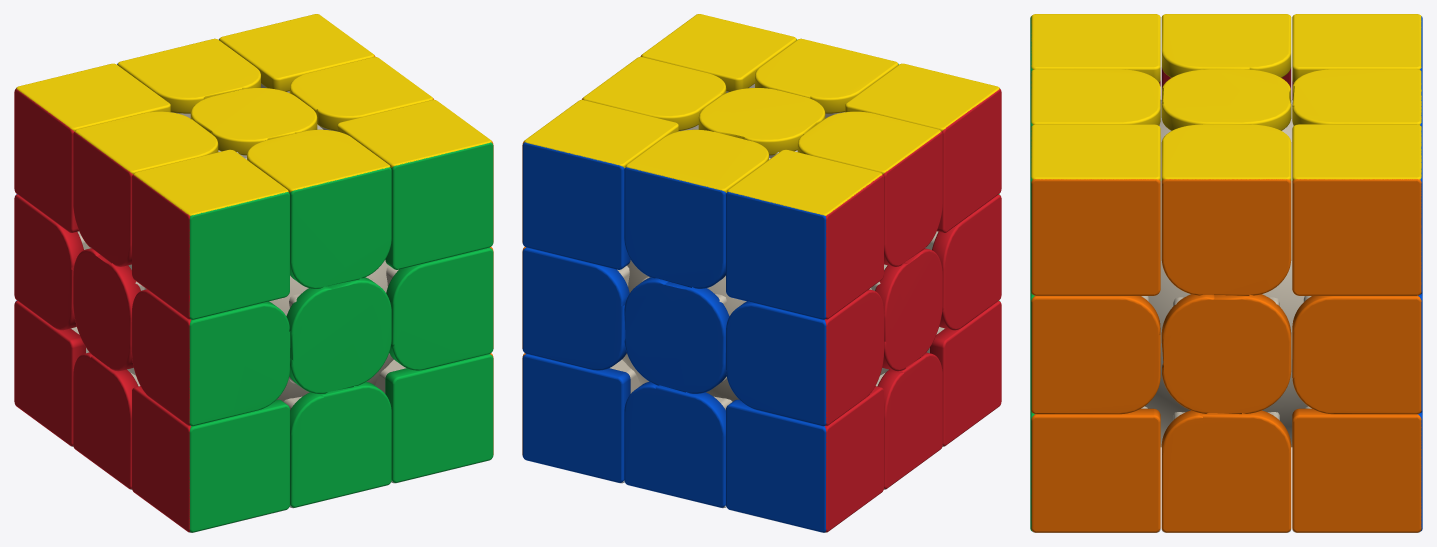
3 renders of one model, left to right at view 1: azimuth 30°, elevation 25°; view 2: azimuth 150°, elevation 25°; view 3: azimuth 270°, elevation 25°, orthographic. The views are drawn at different scales.
Visible parts, largest first — view 1: piece_-1,1,1, piece_-1,-1,1, piece_1,1,1, piece_-1,0,1, piece_0,1,1, piece_-1,1,-1, piece_1,-1,1, piece_-1,1,0, piece_1,0,1, piece_0,-1,1, piece_0,0,1, piece_-1,-1,-1 (+8 smaller); view 2: piece_-1,1,-1, piece_-1,-1,-1, piece_1,1,-1, piece_-1,0,-1, piece_0,1,-1, piece_-1,1,1, piece_1,-1,-1, piece_-1,1,0, piece_1,0,-1, piece_0,-1,-1, piece_0,0,-1, piece_-1,-1,1 (+8 smaller); view 3: piece_1,1,-1, piece_1,1,1, piece_1,1,0, piece_1,-1,1, piece_1,-1,-1, piece_1,-1,0, piece_1,0,1, piece_1,0,-1, piece_1,0,0, piece_-1,1,0, piece_-1,1,-1, piece_-1,1,1 (+4 smaller).
Boxes of the visible parts, bbox=[...] form: piece_-1,1,1: bbox=[132, 149, 289, 319]; piece_-1,-1,1: bbox=[132, 386, 289, 532]; piece_1,1,1: bbox=[337, 100, 493, 269]; piece_-1,0,1: bbox=[131, 289, 290, 426]; piece_0,1,1: bbox=[247, 129, 391, 288]; piece_-1,1,-1: bbox=[14, 63, 170, 232]; piece_1,-1,1: bbox=[375, 353, 493, 483]; piece_-1,1,0: bbox=[73, 111, 218, 266]; piece_1,0,1: bbox=[386, 247, 493, 370]; piece_0,-1,1: bbox=[283, 381, 391, 508]; piece_0,0,1: bbox=[286, 277, 391, 393]; piece_-1,-1,-1: bbox=[14, 300, 89, 446]; piece_-1,1,-1: bbox=[726, 149, 883, 319]; piece_-1,-1,-1: bbox=[726, 386, 883, 532]; piece_1,1,-1: bbox=[522, 100, 678, 269]; piece_-1,0,-1: bbox=[725, 289, 884, 426]; piece_0,1,-1: bbox=[624, 129, 768, 288]; piece_-1,1,1: bbox=[845, 63, 1001, 232]; piece_1,-1,-1: bbox=[522, 353, 640, 483]; piece_-1,1,0: bbox=[797, 111, 942, 266]; piece_1,0,-1: bbox=[522, 247, 629, 370]; piece_0,-1,-1: bbox=[624, 381, 732, 508]; piece_0,0,-1: bbox=[624, 277, 729, 393]; piece_-1,-1,1: bbox=[926, 300, 1001, 446]; piece_1,1,-1: bbox=[1292, 124, 1422, 295]; piece_1,1,1: bbox=[1030, 124, 1160, 295]; piece_1,1,0: bbox=[1161, 124, 1291, 295]; piece_1,-1,1: bbox=[1030, 406, 1160, 532]; piece_1,-1,-1: bbox=[1292, 406, 1422, 532]; piece_1,-1,0: bbox=[1161, 410, 1291, 532]; piece_1,0,1: bbox=[1030, 292, 1160, 414]; piece_1,0,-1: bbox=[1292, 292, 1422, 414]; piece_1,0,0: bbox=[1161, 294, 1291, 414]; piece_-1,1,0: bbox=[1161, 14, 1291, 98]; piece_-1,1,-1: bbox=[1292, 14, 1422, 99]; piece_-1,1,1: bbox=[1030, 14, 1160, 86].
Size of the model in its own units: 2 by 2 by 2.
